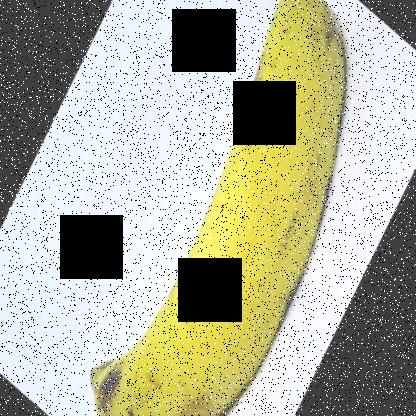freshripe: (72, 1, 370, 415)
